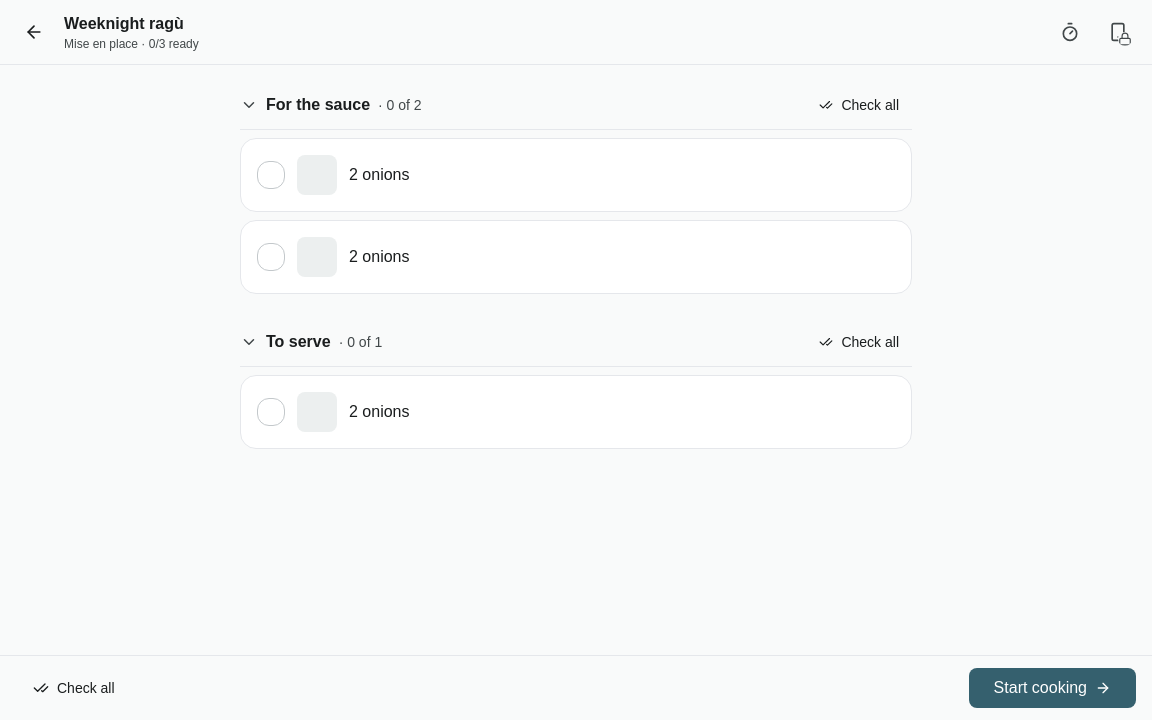
Test case: CookModePage — a gathered section folding itself away › folds a section its own bulk tick finished off
Step 1. Click the 1st button with test id "cook-mise-group-check-all" → [859, 105], box [806,89,912,121]
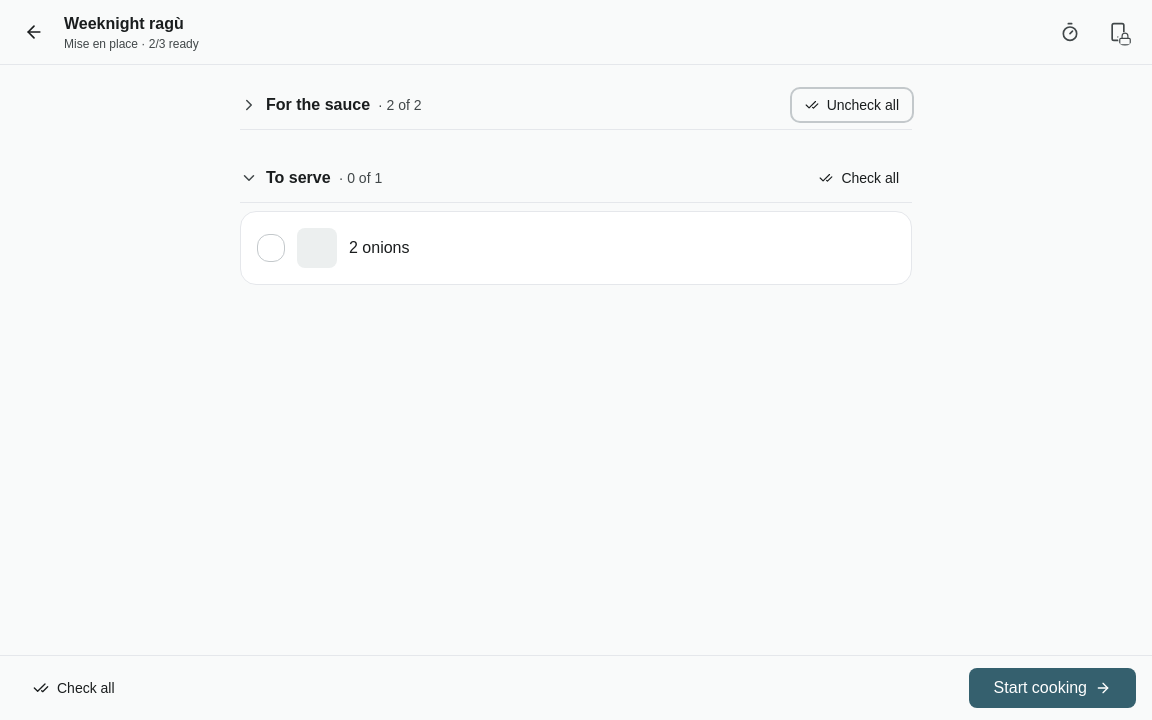
expect the number of buttons with test id "cook-mise-row" is 1: met, box [240,211,912,285]
